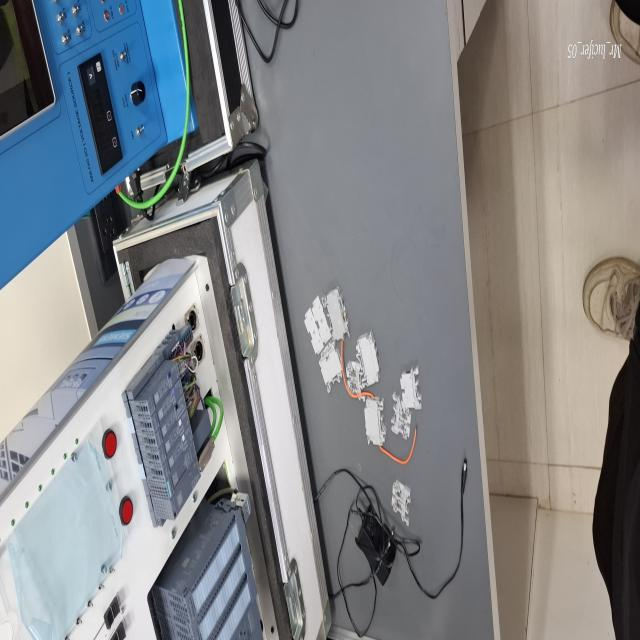Inverted: (398, 360, 426, 415)
Pass: (390, 389, 413, 442), (392, 474, 412, 530), (345, 358, 366, 404)
